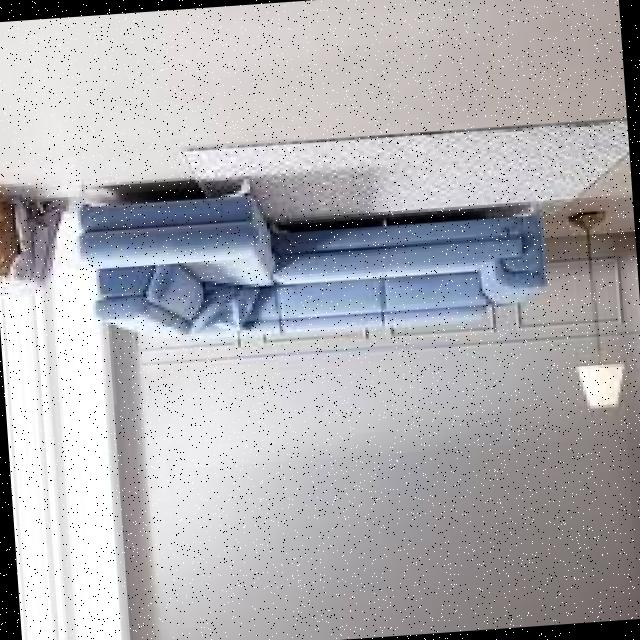Sofa: (56, 124, 579, 372)
